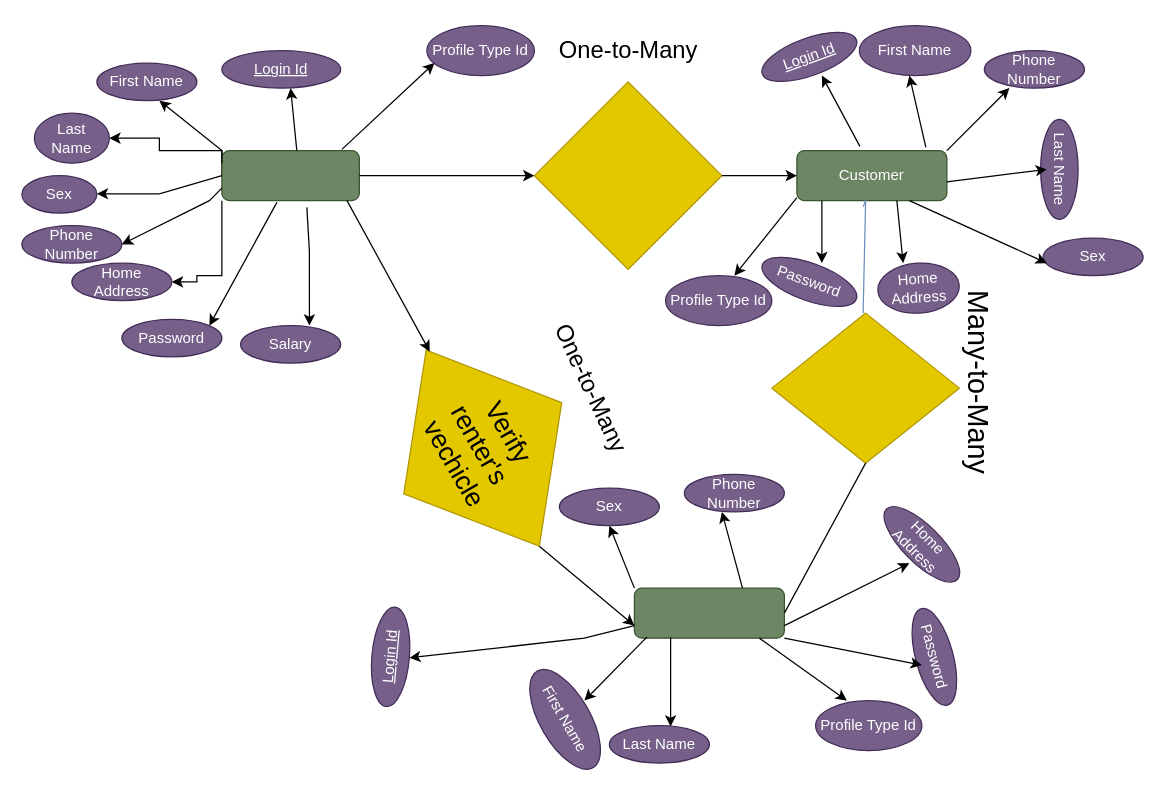
Image size: 1165x803. Some labels were removed from this diagram. Each missing label, with the centre of its shape:
Admin: point (290, 175)
Manages Customer Account: point (627, 175)
RENTER: point (708, 612)
Rents a Car: point (865, 387)
